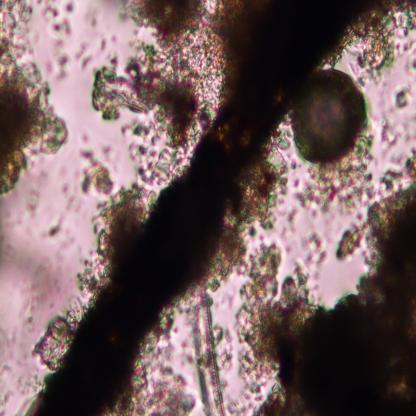Background material: (231, 178, 416, 415), (0, 1, 70, 197), (94, 43, 204, 148), (0, 216, 64, 312), (128, 332, 194, 415), (120, 0, 212, 54), (355, 1, 416, 76), (298, 161, 377, 209), (46, 5, 76, 84), (378, 86, 414, 151), (77, 143, 116, 197), (41, 205, 68, 251), (79, 38, 94, 70)
Diatom: (292, 65, 370, 169), (192, 285, 228, 414)
